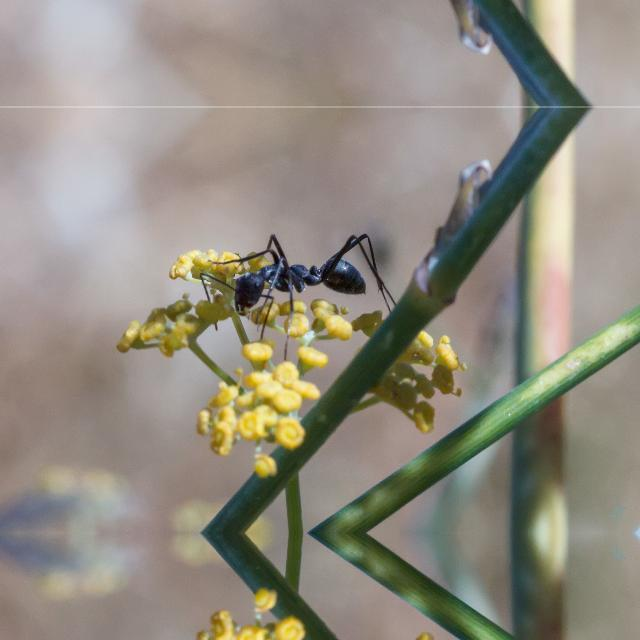Cataglyphis: (196, 234, 394, 330)
